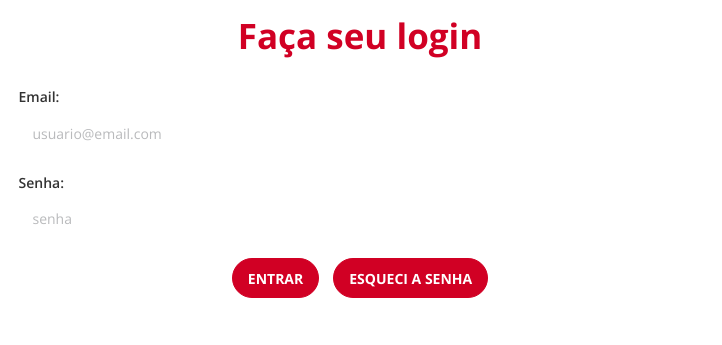
Test: UserForm - Login › deve exibir mensagem de validação quando o formulário for enviado sem preencher os campos
Click the button "Entrar".
click(276, 278)  # box [232,258,319,298]
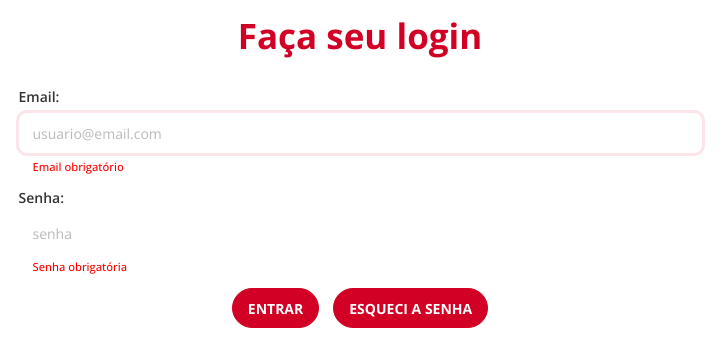
Now the text "Email obrigatório" is shown, box [32,159,124,174]
Now the text "Senha obrigatória" is shown, box [32,259,127,274]
